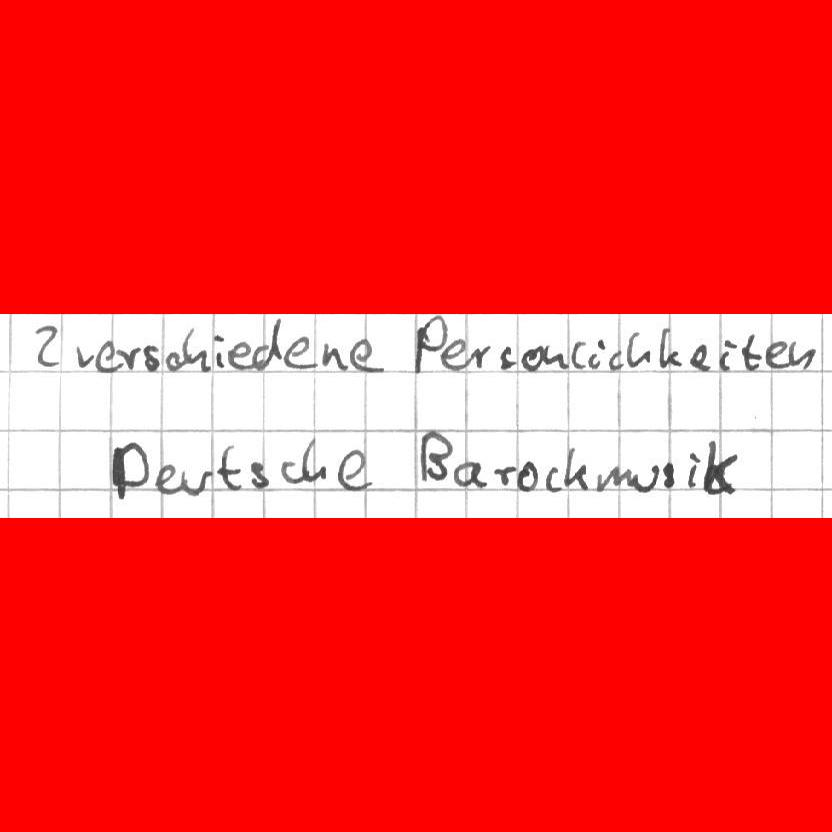Char: (111, 440, 149, 498), (702, 439, 739, 497), (411, 313, 444, 374), (418, 428, 452, 486), (336, 447, 373, 493), (250, 319, 283, 369), (180, 324, 208, 372), (563, 444, 590, 493), (33, 322, 59, 370), (348, 337, 381, 374), (299, 437, 326, 482), (217, 441, 240, 492), (452, 458, 487, 489), (594, 462, 630, 492), (284, 336, 314, 371), (439, 336, 468, 372), (658, 326, 682, 369), (181, 464, 211, 497), (626, 329, 650, 368), (630, 462, 659, 493), (741, 330, 762, 370), (788, 340, 815, 371), (153, 461, 178, 494), (764, 339, 788, 371), (517, 459, 539, 492), (321, 341, 345, 370), (718, 339, 739, 372), (96, 341, 117, 372), (229, 339, 249, 371), (689, 343, 711, 372), (248, 460, 270, 488), (210, 334, 226, 372), (492, 463, 515, 489), (543, 344, 566, 370), (468, 342, 488, 371), (120, 346, 142, 372), (686, 452, 701, 490), (521, 346, 543, 371), (543, 464, 562, 492), (73, 344, 94, 369), (279, 458, 299, 484), (497, 344, 516, 371), (144, 345, 162, 373), (589, 337, 604, 370), (162, 348, 181, 373), (570, 341, 586, 370), (607, 347, 625, 372), (663, 458, 677, 489)
